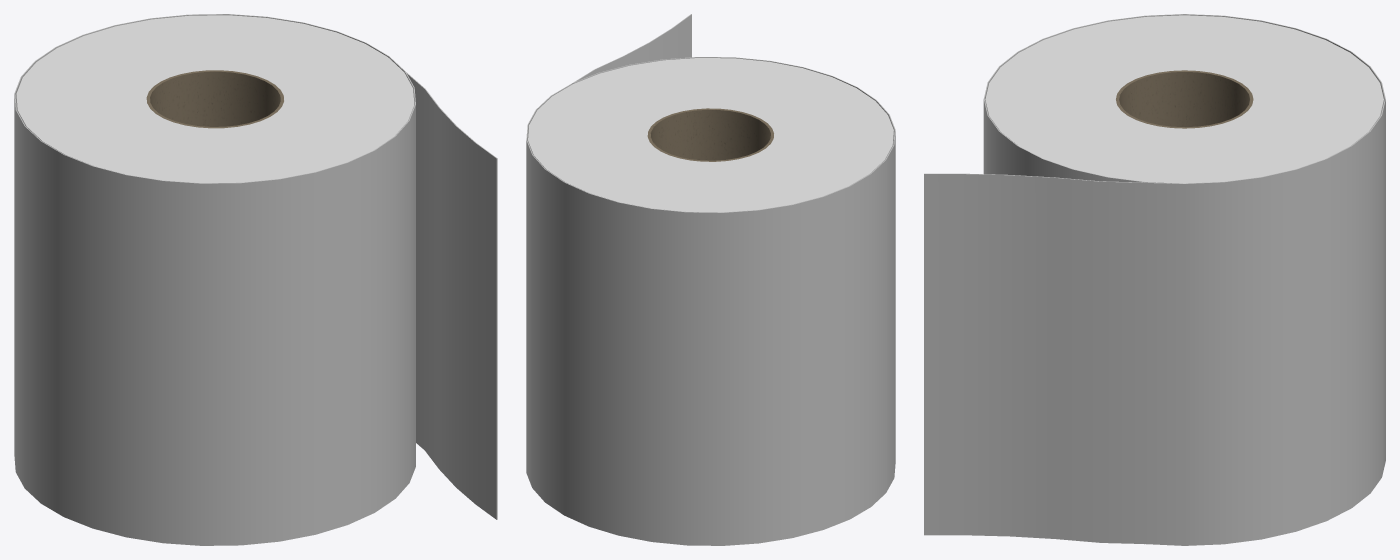
Rendered from Klopapier.fbx.
3 renders of one model, left to right at view 1: azimuth 30°, elevation 25°; view 2: azimuth 150°, elevation 25°; view 3: azimuth 270°, elevation 25°, orthographic. The views are drawn at different scales.
Visible parts, largest first — view 1: Cylinder.001, Cylinder.003, Cylinder.002; view 2: Cylinder.001, Cylinder.003, Cylinder.002; view 3: Cylinder.001, Cylinder.003, Cylinder.002.
Boxes of the visible parts, x1,y1,x2,y2 form: Cylinder.001: (14,14,497,545); Cylinder.003: (16,15,414,183); Cylinder.002: (146,70,283,128); Cylinder.001: (526,14,895,545); Cylinder.003: (528,58,893,212); Cylinder.002: (647,108,773,161); Cylinder.001: (924,14,1385,545); Cylinder.003: (985,15,1383,183); Cylinder.002: (1116,70,1253,128).
Size of the model in its own units: 202 by 201 by 232.
